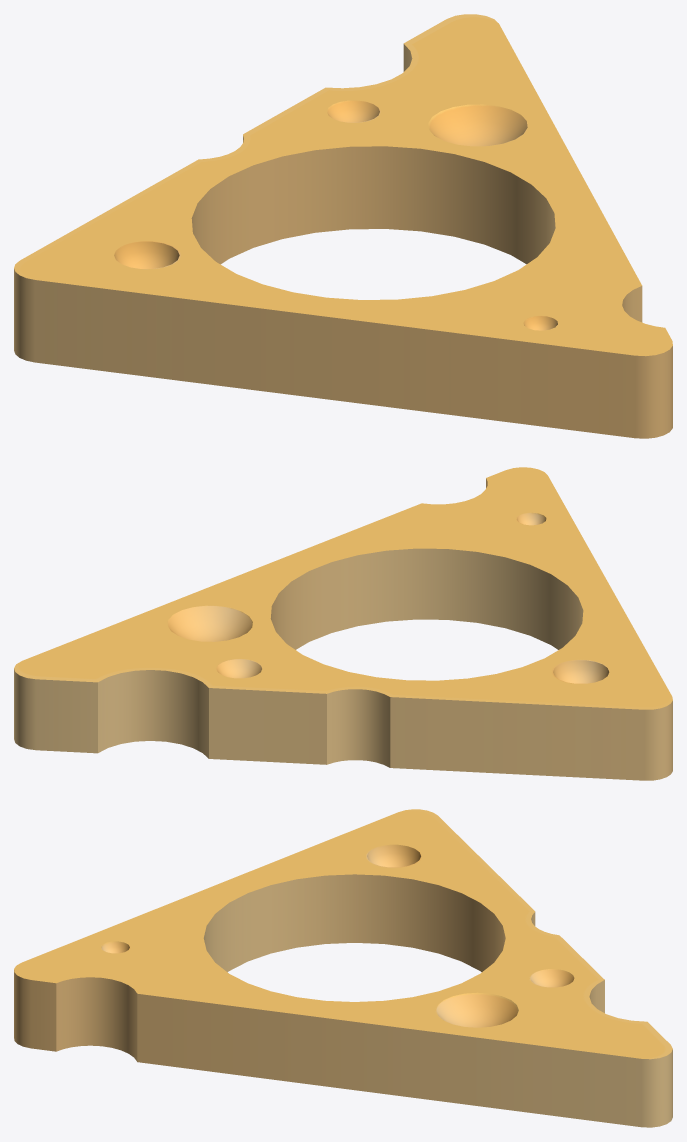
Rendered from cheese.FBX.
The picture shows the model from 3 angles, top to bottom: view 1: azimuth 30°, elevation 25°; view 2: azimuth 150°, elevation 25°; view 3: azimuth 270°, elevation 25°; orthographic projection. The views are drawn at different scales.
Parts seen in each view (by area): view 1: Cheese; view 2: Cheese; view 3: Cheese.
Part boxes in pixels (left/top/right/bottom): Cheese: left=14, top=14, right=672, bottom=438; Cheese: left=14, top=467, right=672, bottom=780; Cheese: left=14, top=809, right=672, bottom=1127.
Size of the model in its own units: 54.83 by 7 by 61.1.
1 material, 1 textured.
